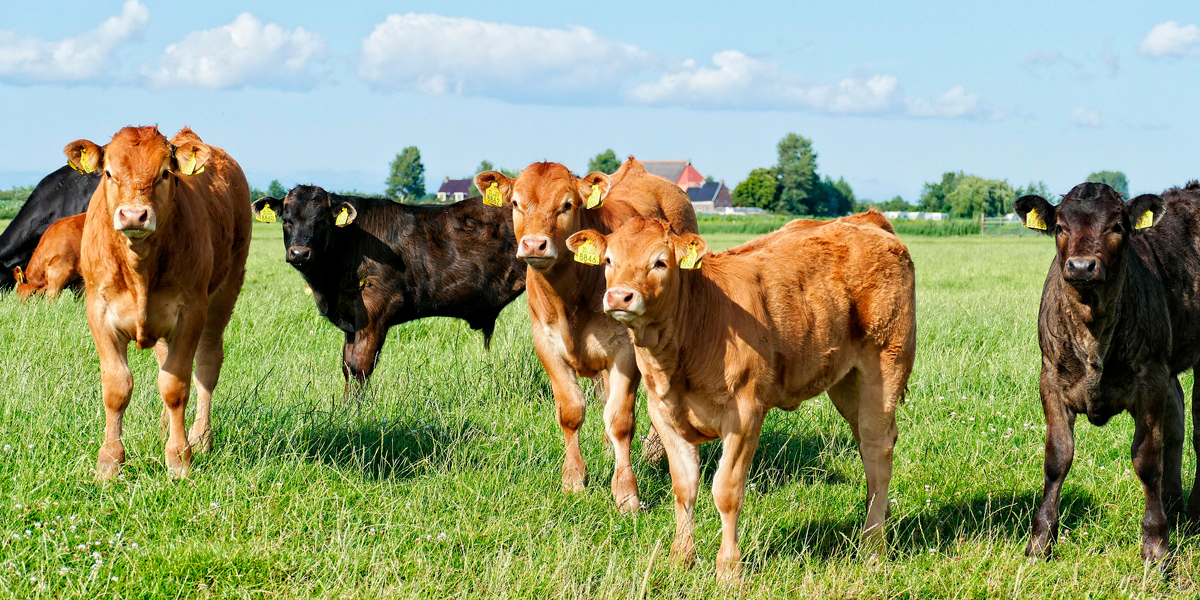bovino: (573, 204, 945, 570), (478, 157, 702, 508), (1013, 180, 1200, 566), (63, 118, 250, 480), (251, 182, 510, 403)
